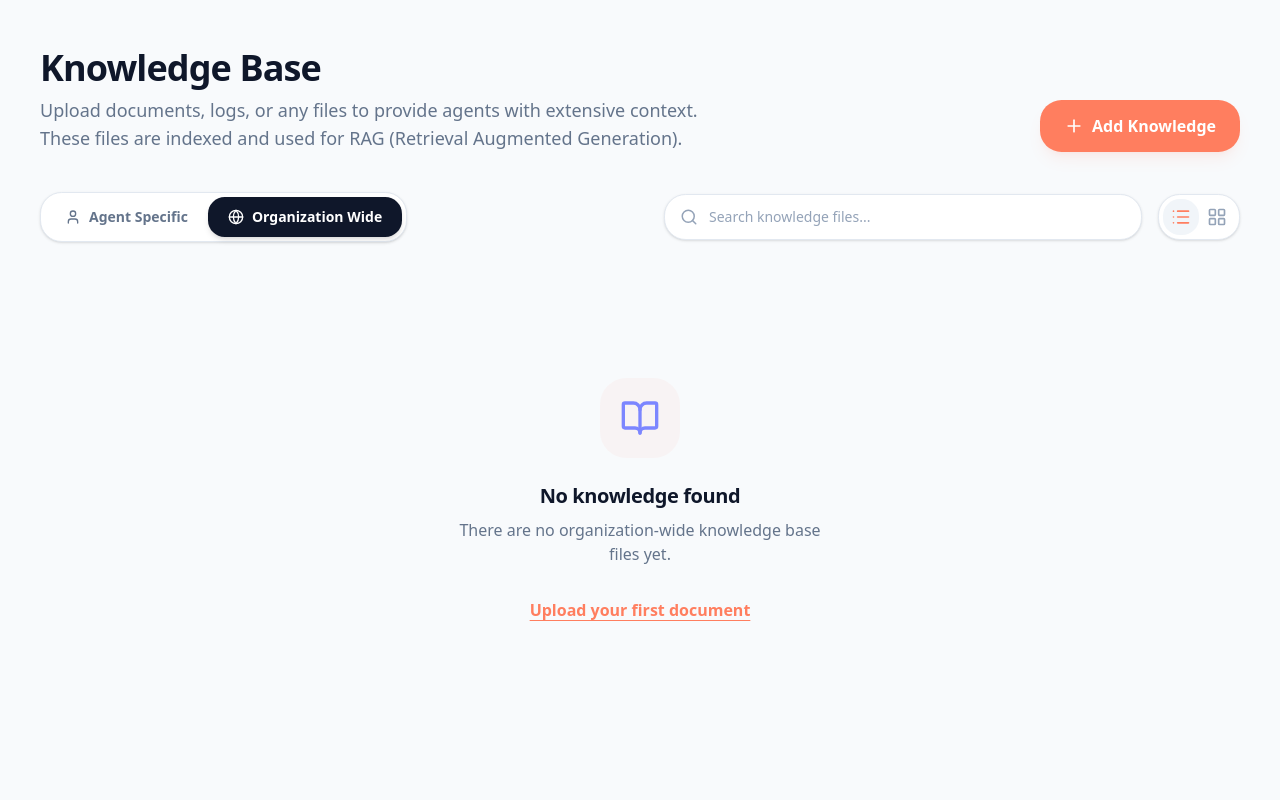
it: the knowledge base page › the empty state › explains an empty agent scope differently
Expected: the heading "No knowledge found" is shown, [540,482,740,510]
Click the button "Agent Specific".
click(126, 217)  # box [45,197,208,237]
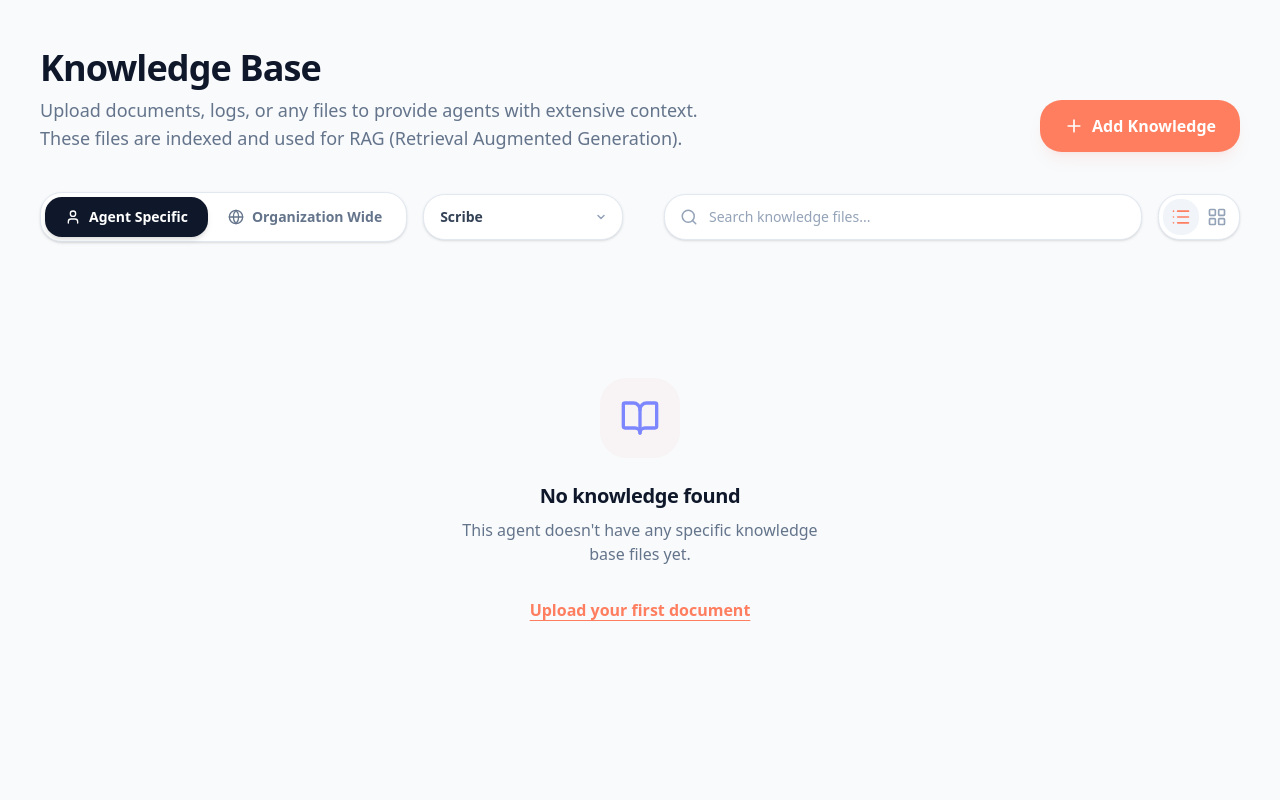
Result: the text "doesn't have any specific knowledge" is shown at [462,519,818,565]
